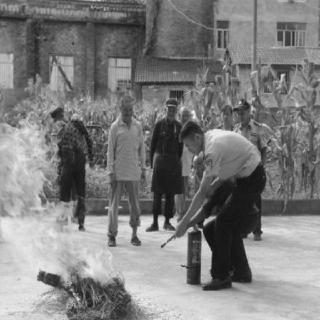Fire: (0, 110, 119, 313)
